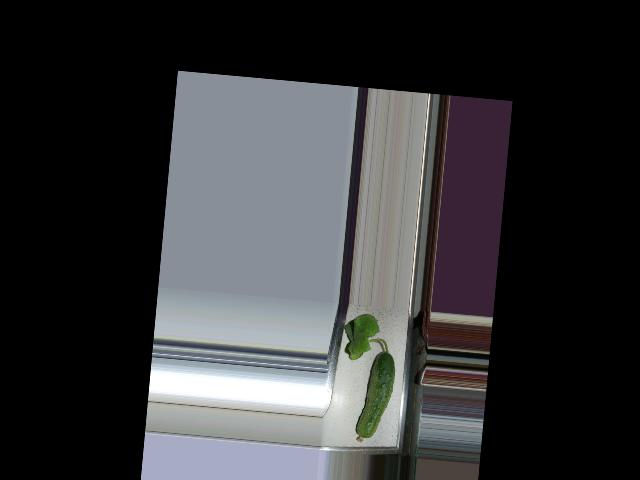cucumber: (354, 348, 396, 444)
